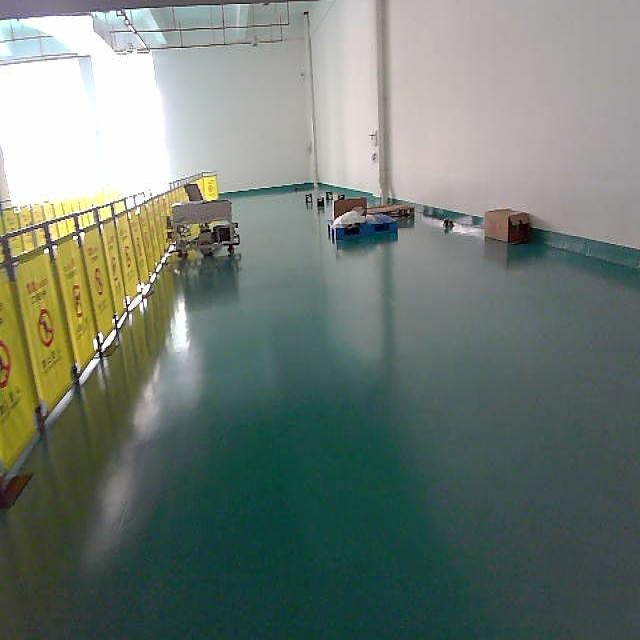euro: (370, 201, 414, 227)
